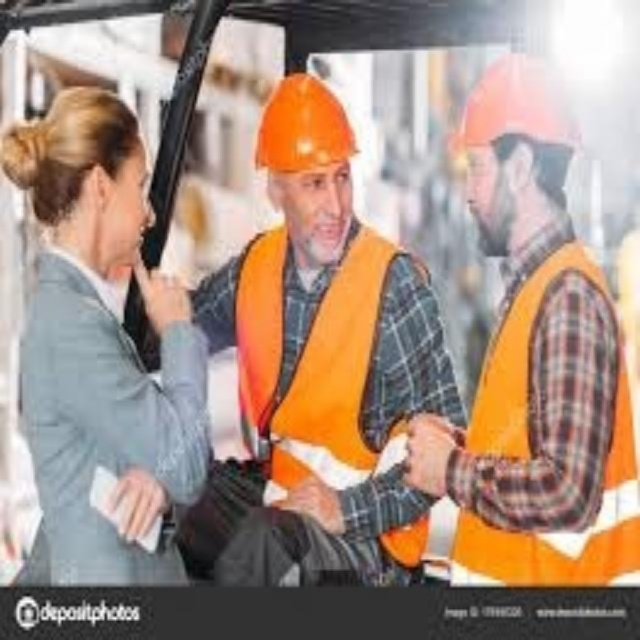Con_Chaleco: (243, 227, 432, 562), (450, 253, 640, 583)
